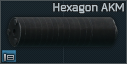AKM Hexagon 7.62x39 sound suppressor: (0, 0, 127, 64)
